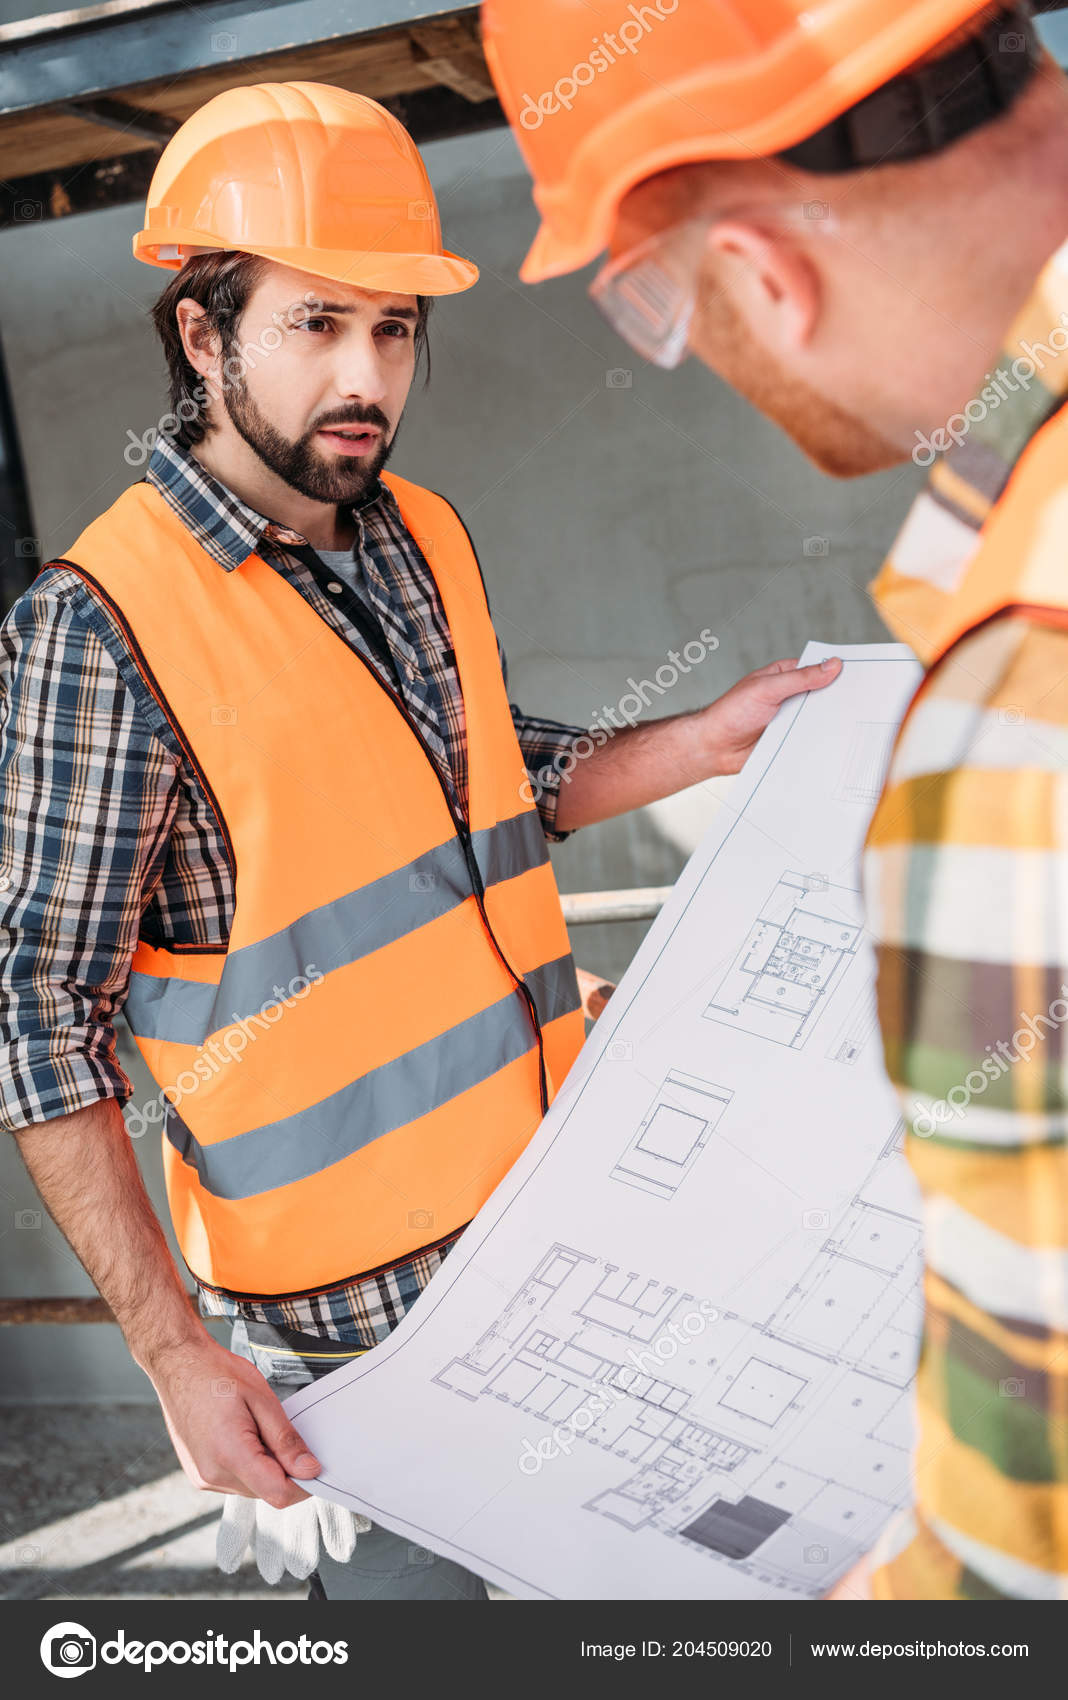Hard Hat: (482, 6, 1063, 463), (132, 85, 488, 512)
Person: (489, 13, 1062, 1602), (8, 85, 508, 1597)
Vest: (46, 245, 624, 1283)
